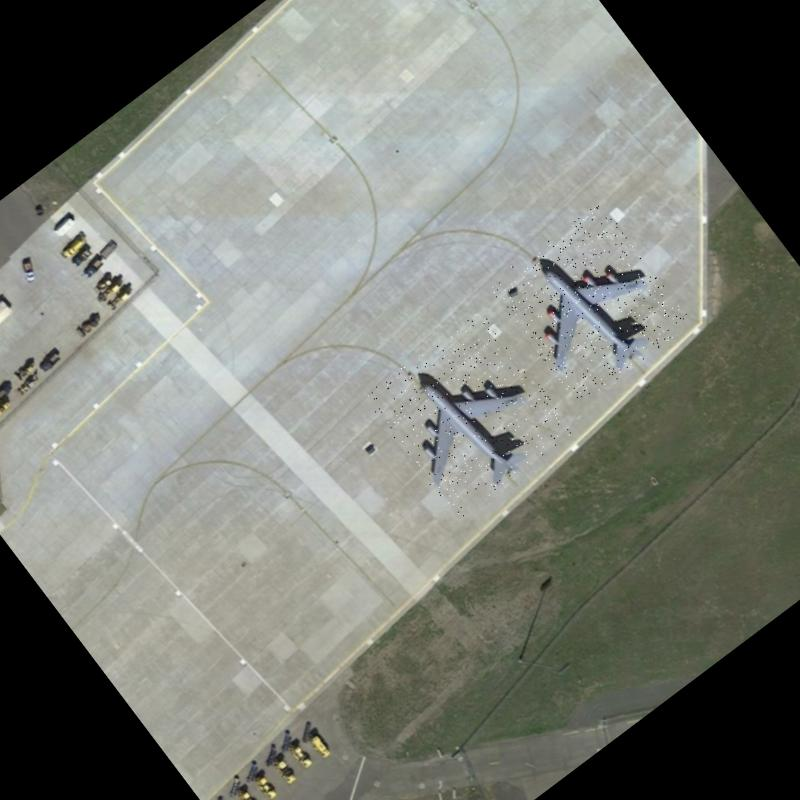A14: (363, 307, 576, 522), (487, 199, 693, 407)
